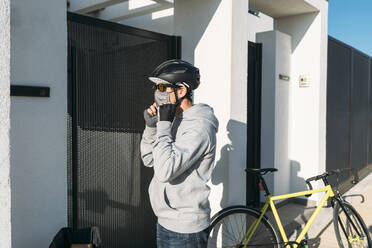helmet: (148, 59, 200, 109)
